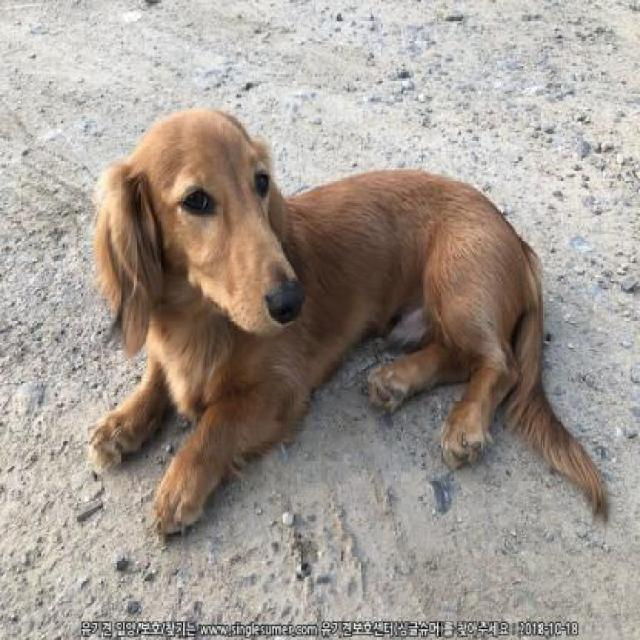Dog: (82, 110, 610, 552)
